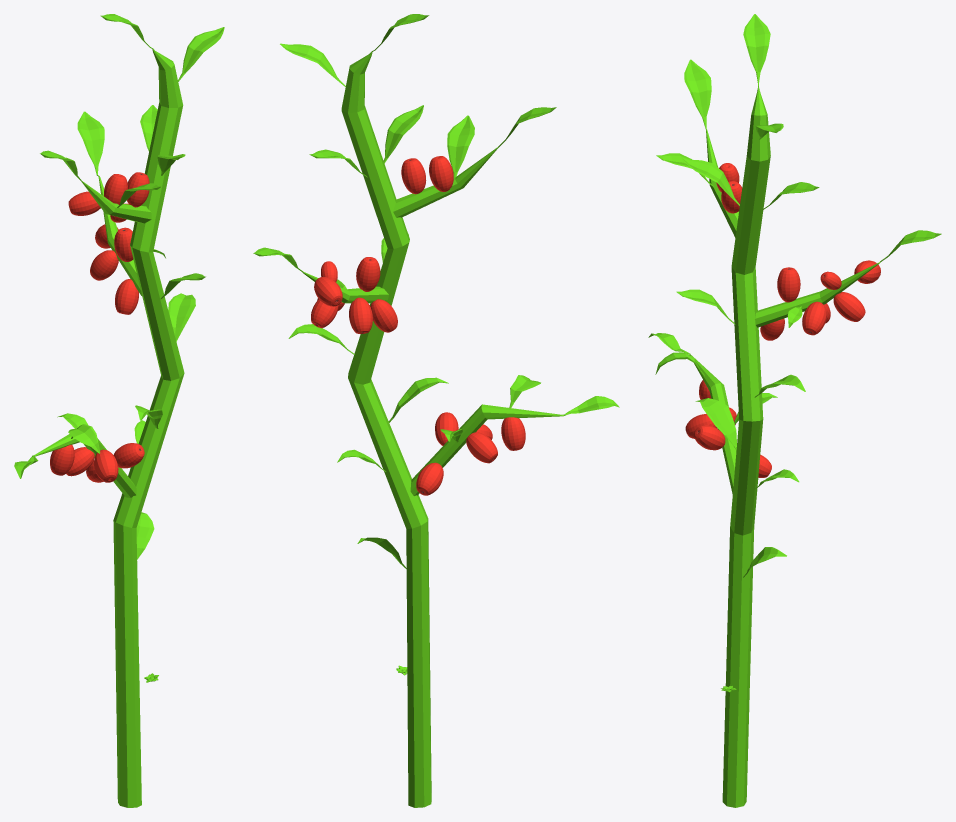
Rendered from Mata de Café_1.fbx.
3 views of the same model, side by side, from view 1: azimuth 30°, elevation 25°; view 2: azimuth 150°, elevation 25°; view 3: azimuth 270°, elevation 25° (orthographic). The views are drawn at different scales.
Visible parts, largest first — view 1: Plant, Tomato.007, Tomato.010, Tomato.004, Tomato.006, Tomato.003, Tomato.011, Tomato.014, Tomato.015, Tomato.008, Tomato.001; view 2: Plant, Tomato.015, Tomato.014, Tomato.010, Tomato.001, Tomato.003, Tomato.002, Tomato.008, Tomato.007, Tomato.011; view 3: Plant, Tomato.008, Tomato.012, Tomato.009, Tomato.006.
Boxes of the visible parts, bbox=[...] form: Plant: bbox=[14, 14, 224, 807]; Tomato.007: bbox=[115, 279, 138, 314]; Tomato.010: bbox=[90, 250, 118, 280]; Tomato.004: bbox=[94, 449, 118, 482]; Tomato.006: bbox=[113, 443, 144, 468]; Tomato.003: bbox=[50, 444, 74, 475]; Tomato.011: bbox=[68, 191, 100, 215]; Tomato.014: bbox=[127, 172, 149, 207]; Tomato.015: bbox=[104, 174, 127, 204]; Tomato.008: bbox=[114, 227, 133, 261]; Tomato.001: bbox=[66, 447, 94, 476]; Plant: bbox=[253, 14, 619, 807]; Tomato.015: bbox=[429, 156, 453, 191]; Tomato.014: bbox=[401, 158, 426, 194]; Tomato.010: bbox=[349, 297, 372, 333]; Tomato.001: bbox=[466, 432, 497, 463]; Tomato.003: bbox=[501, 417, 525, 450]; Tomato.002: bbox=[416, 462, 443, 495]; Tomato.008: bbox=[356, 257, 380, 291]; Tomato.007: bbox=[370, 299, 397, 332]; Tomato.011: bbox=[314, 277, 342, 306]; Plant: bbox=[648, 14, 941, 807]; Tomato.008: bbox=[777, 267, 800, 302]; Tomato.012: bbox=[833, 292, 865, 321]; Tomato.009: bbox=[802, 301, 826, 335]; Tomato.006: bbox=[694, 425, 725, 450].
Bounding box in the file's own units: 0.4037 × 1.13 × 0.3846.
